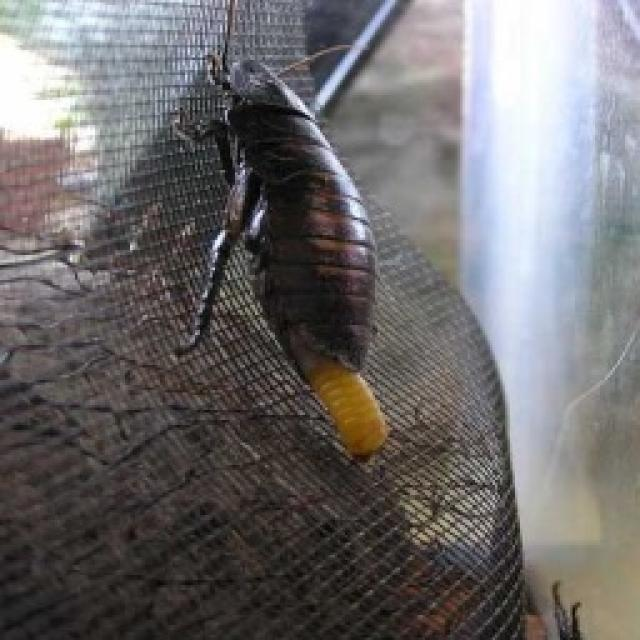cockroach: (164, 7, 402, 465)
